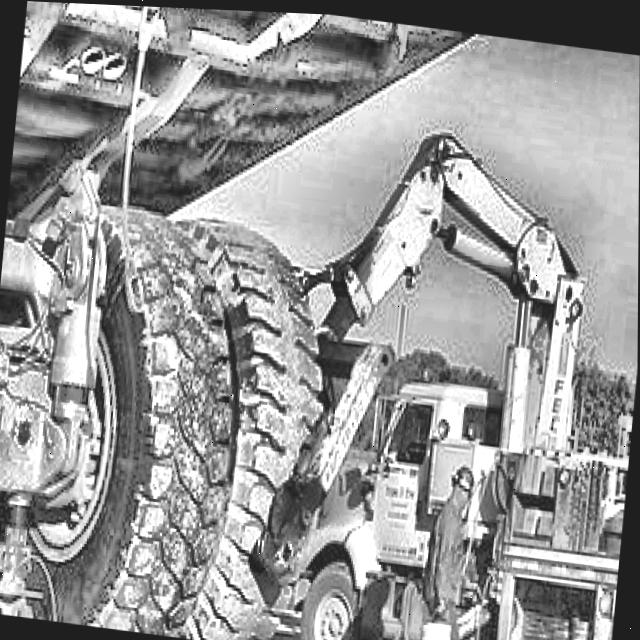dump_truck: (0, 0, 427, 640)
